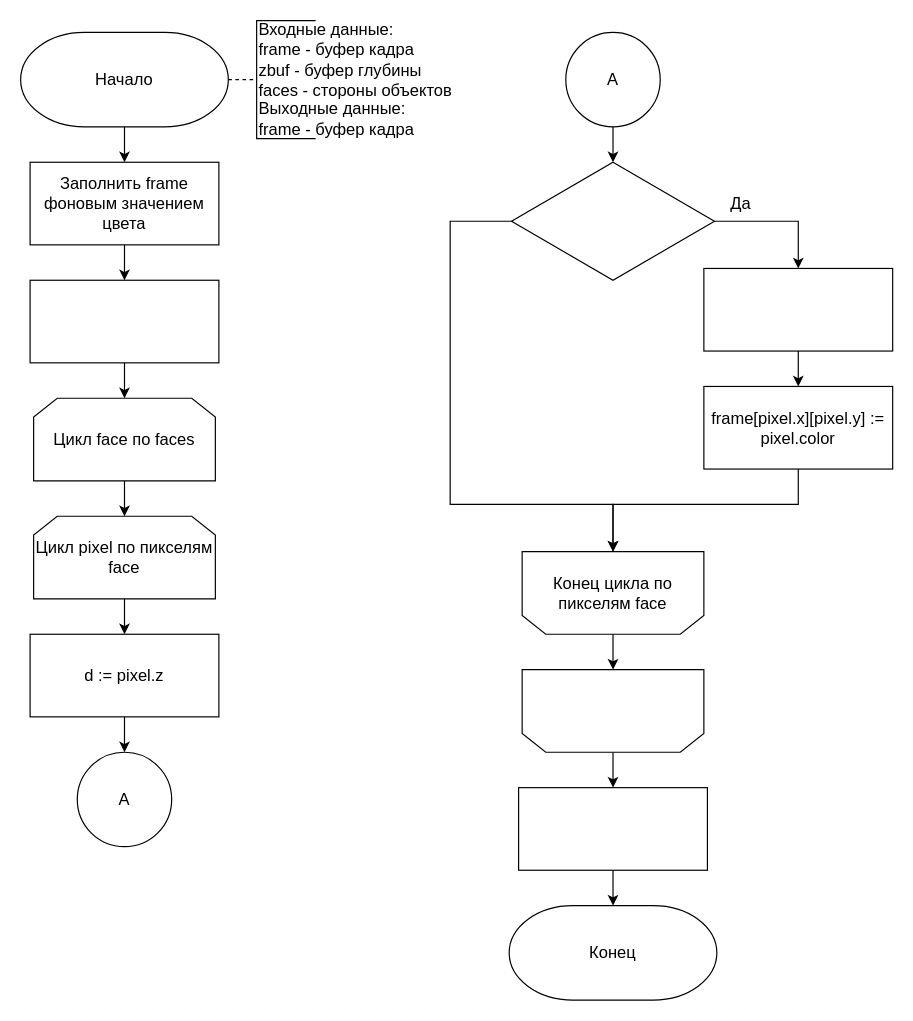
Some shapes in this 913 by 1021 pixel diagram are drawn without their labels. The shapes that lost their labels are listed below. From the top down, each one's centre as x and y in pixels, then its label:
At [612,220]: "d > zbuf[pixel.x][pixel.y]?".
At [124,321]: "Заполнить zbuf минимальным значением z".
At [798,309]: "zbuf[pixel.x][pixel.y] := d".
At [612,710]: "Конец цикла по faces".
At [612,828]: "Вернуть frame".
